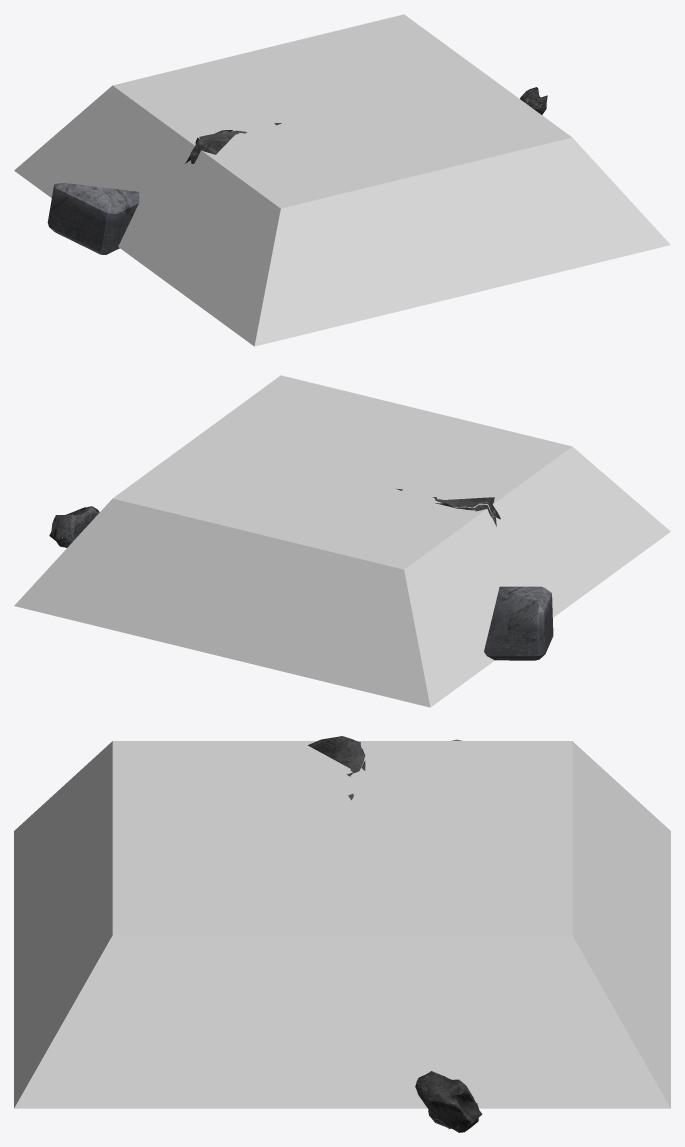
File: rubble_scatter.webp.glb
3 views of the same model, one above another, from view 1: azimuth 30°, elevation 25°; view 2: azimuth 150°, elevation 25°; view 3: azimuth 270°, elevation 25° (orthographic). The views are drawn at different scales.
Visible parts, largest first — view 1: COL, rubble_scatter_lod0; view 2: COL, rubble_scatter_lod0; view 3: COL, rubble_scatter_lod0.
Boxes of the visible parts, bbox=[...] form: COL: bbox=[14, 14, 670, 346]; rubble_scatter_lod0: bbox=[47, 87, 547, 254]; COL: bbox=[14, 375, 670, 707]; rubble_scatter_lod0: bbox=[49, 488, 553, 660]; COL: bbox=[14, 741, 670, 1108]; rubble_scatter_lod0: bbox=[308, 736, 482, 1132].
Size of the model in its own units: 2.17 by 0.4746 by 1.83.
Materials: 1 (1 with a texture image).
